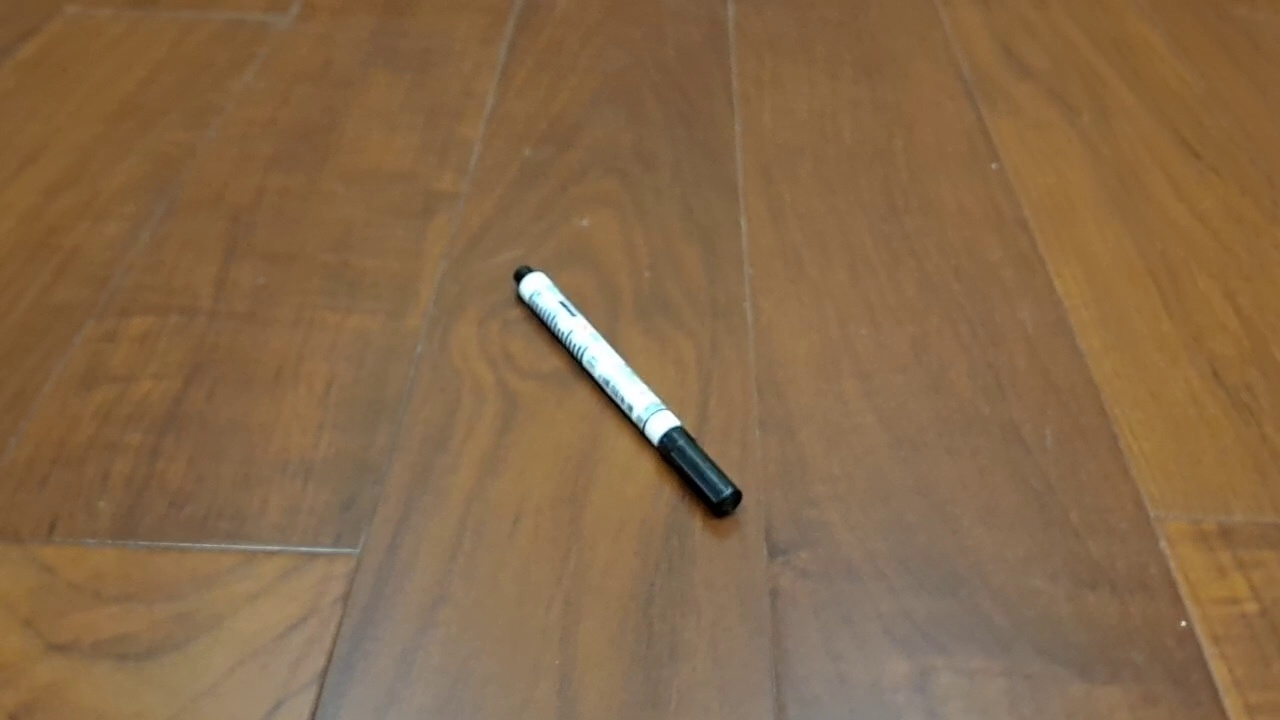pen: (511, 263, 744, 520)
